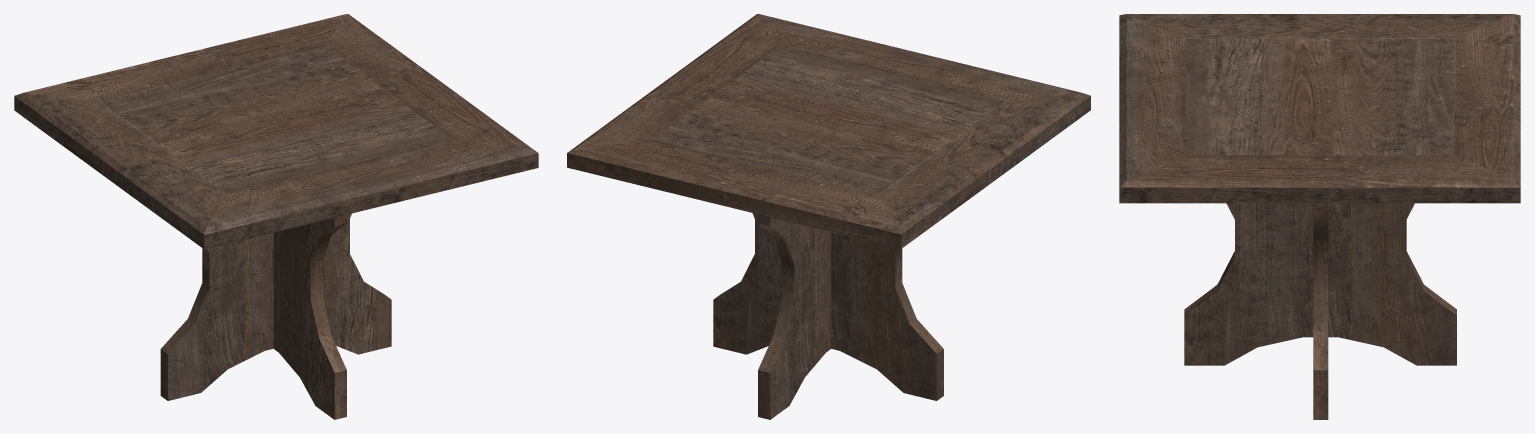
File: mw_table_03.FBX
The picture shows the model from 3 angles, left to right: view 1: azimuth 30°, elevation 25°; view 2: azimuth 150°, elevation 25°; view 3: azimuth 270°, elevation 25°; orthographic projection. The views are drawn at different scales.
Visible parts, largest first — view 1: mw_table_03; view 2: mw_table_03; view 3: mw_table_03.
Part boxes in pixels (x1,y1,x2,y2): mw_table_03: (14, 14, 538, 419); mw_table_03: (567, 14, 1090, 419); mw_table_03: (1119, 14, 1520, 419).
Bounding box in the file's own units: 149 × 107 × 147.
